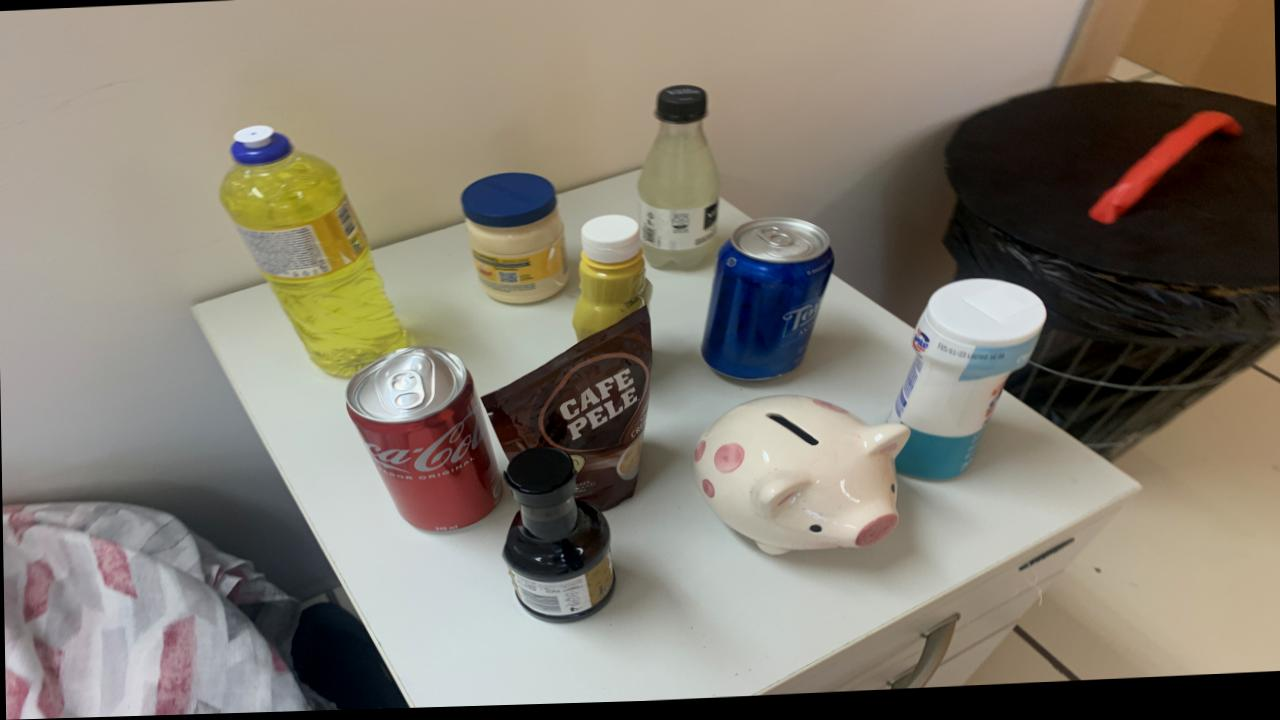Cleaner-Cleanup_Items: (889, 284, 1047, 485)
Coffee-Pantry_Items: (483, 313, 653, 514)
Coke-Drinks: (346, 348, 503, 535)
Detergent-Cleanup_Items: (220, 128, 407, 380)
English_Sauce-Pantry_Items: (504, 450, 614, 626)
Mayonnaise-Pantry_Items: (462, 176, 569, 307)
Mustard-Pantry_Items: (572, 218, 652, 344)
Pig_Safe-Miscellaneous: (694, 400, 912, 559)
Soda-Drinks: (637, 90, 720, 274)
Tonic-Drinks: (703, 221, 834, 384)
